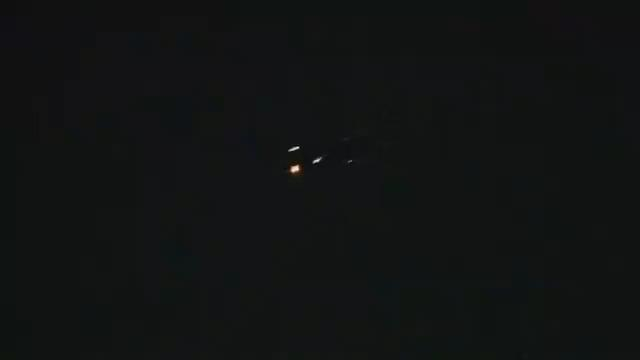Plane: (234, 133, 387, 188)
